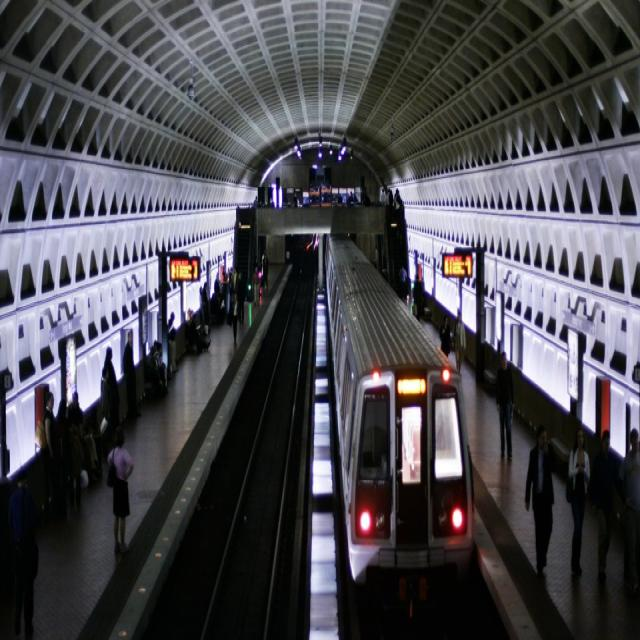body: (6, 464, 40, 638), (524, 421, 556, 579), (591, 428, 623, 584), (564, 424, 592, 577), (106, 422, 135, 562), (141, 306, 178, 407), (619, 425, 639, 598), (62, 400, 84, 516), (495, 348, 517, 461), (182, 278, 213, 358), (213, 260, 246, 322), (42, 391, 58, 518), (396, 260, 427, 324), (377, 183, 405, 228), (100, 366, 114, 453), (122, 329, 137, 408), (451, 310, 466, 378), (336, 187, 372, 207), (229, 290, 240, 347), (438, 314, 452, 358), (104, 344, 118, 388), (259, 244, 270, 292), (250, 262, 260, 308)
